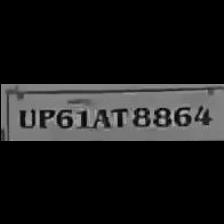1: (74, 104, 90, 128)
4: (192, 101, 212, 125)
6: (52, 104, 74, 128), (172, 101, 192, 125)
8: (129, 102, 151, 127), (151, 103, 171, 127)
A: (90, 104, 108, 128)
P: (34, 105, 52, 129)
T: (108, 104, 128, 128)
U: (13, 104, 35, 128)
